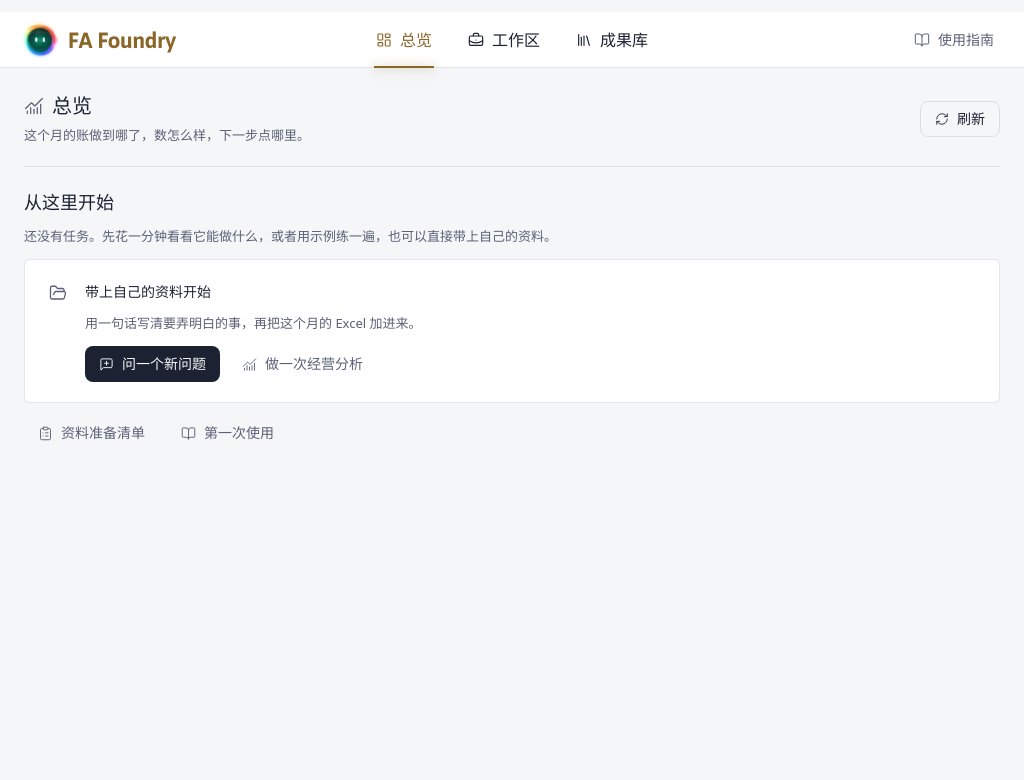
first run › keeps the 总览 article when the guide is opened from 总览 on an empty store
The image size is (1024, 780).
Expected: the heading "从这里开始" is shown, [24,190,114,214]
Click the button "使用指南" at (954, 40), box [904,24,1004,56]
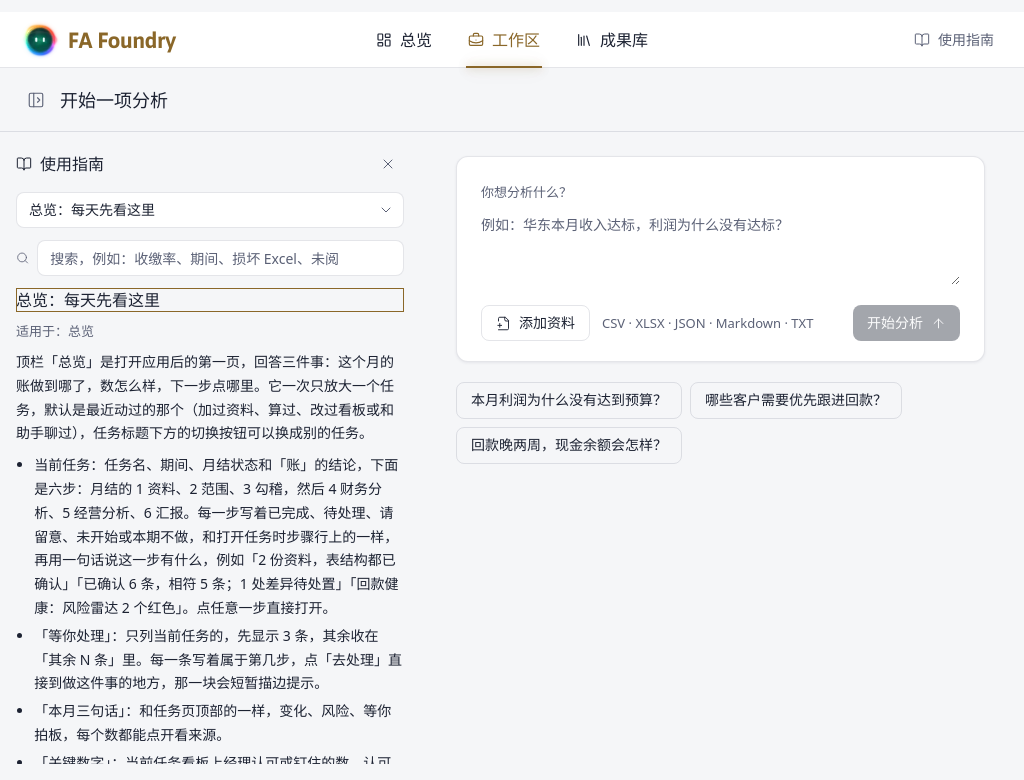
Expected: the button "第一次使用" is gone
Expected: the heading "总览：每天先看这里" is shown, [16,289,160,311]
